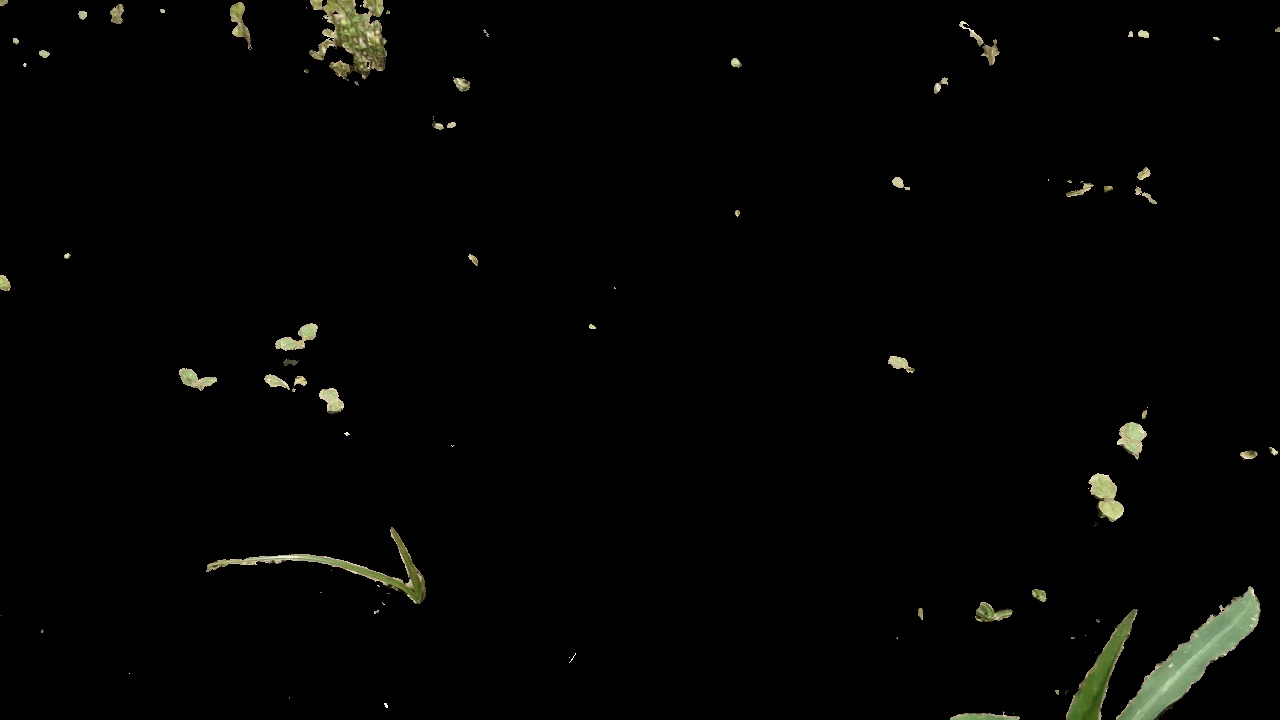crop: (952, 588, 1265, 720)
weed: (205, 517, 425, 605), (296, 2, 403, 88), (1062, 157, 1161, 204), (1086, 468, 1136, 528), (951, 19, 1002, 68), (268, 317, 319, 354), (173, 361, 219, 394), (219, 4, 256, 45), (1109, 419, 1145, 461), (319, 378, 353, 422), (881, 349, 918, 379), (973, 599, 1015, 624), (889, 169, 923, 196), (262, 375, 306, 392), (431, 117, 459, 137)
